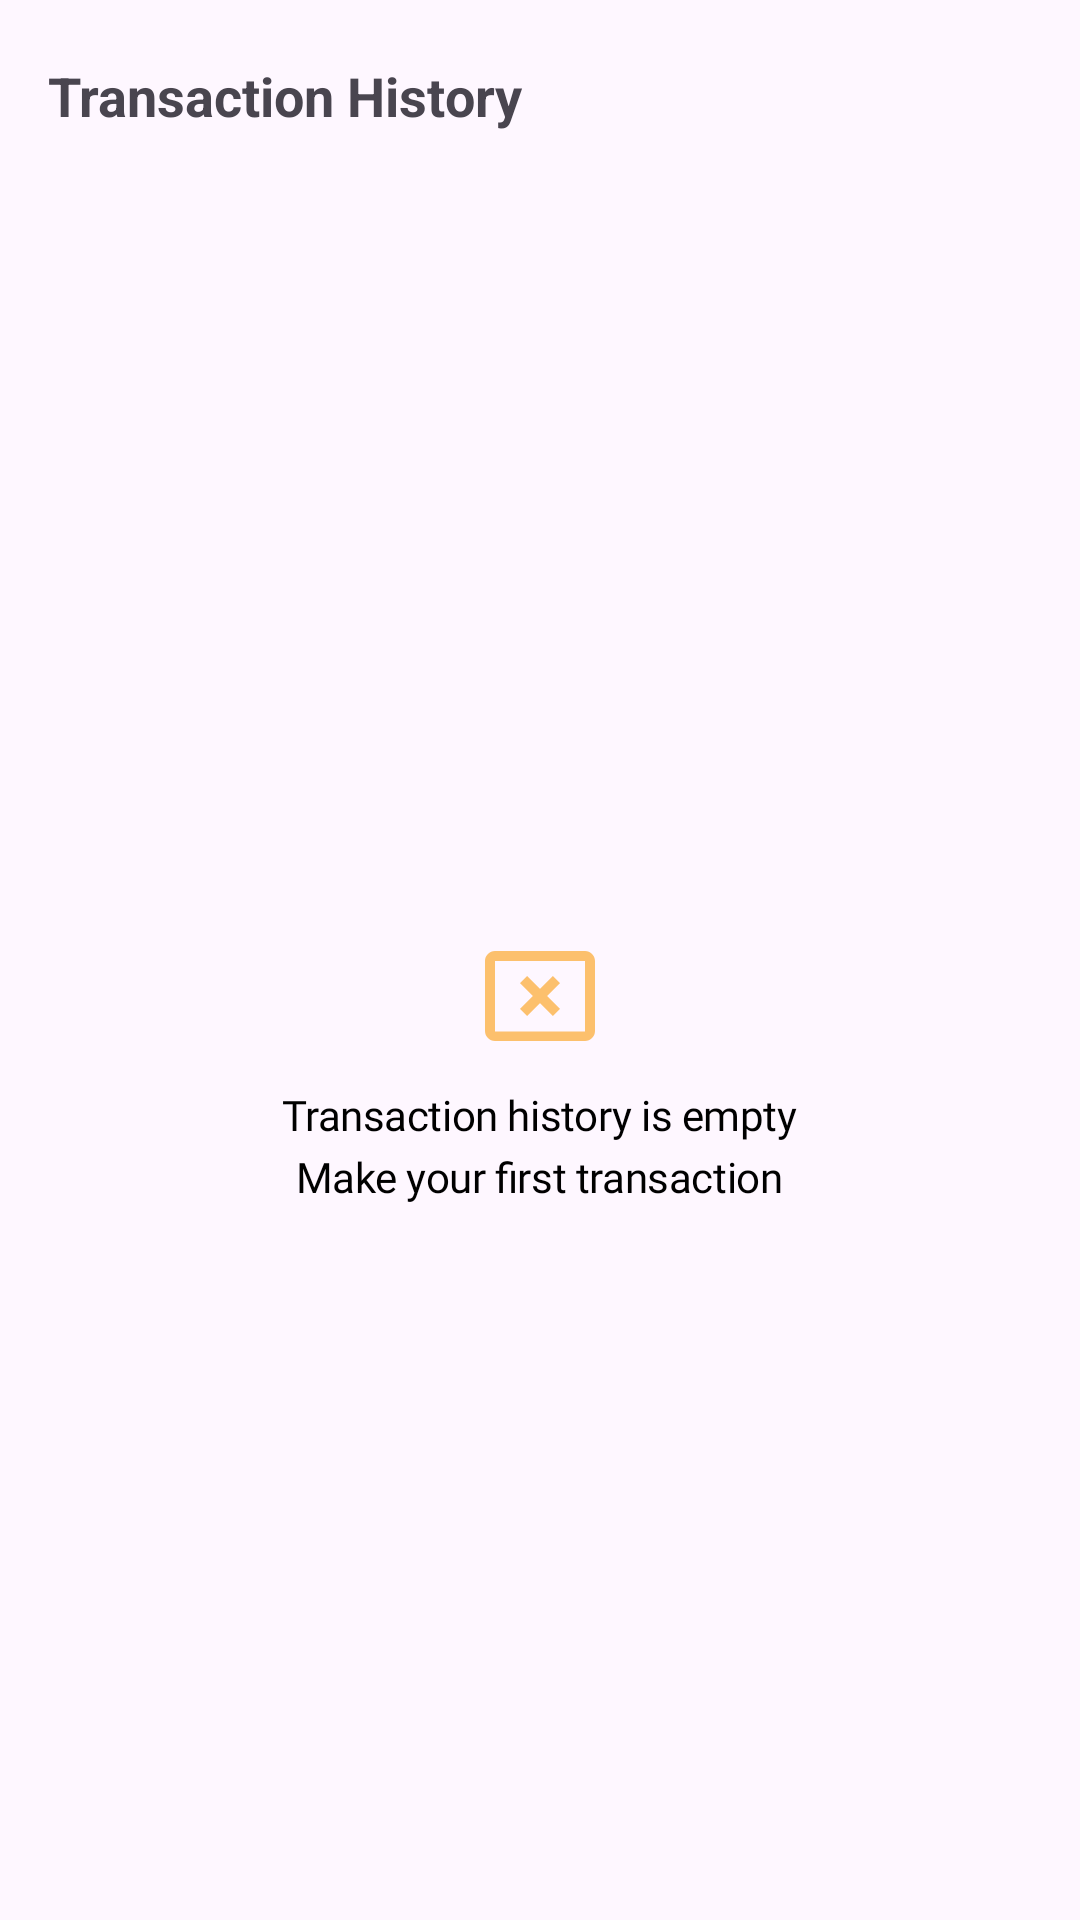

Icon bounding boxes for this 1080px x 1920px phone screenshot, format {"x1": x1, "y1": y1, "x2": x2, "y2": y2}:
empty state: {"x1": 485, "y1": 951, "x2": 595, "y2": 1041}
